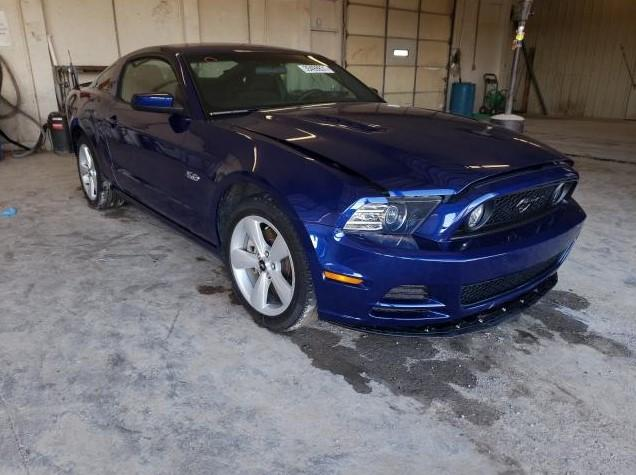Back-wheel: (77, 138, 124, 209)
Back-window: (97, 67, 111, 89)
Fender: (184, 119, 333, 227), (284, 168, 385, 226)
Front-bumper: (304, 200, 586, 334)
Front-door: (104, 53, 187, 224)
Front-wheel: (219, 193, 317, 332)
Front-window: (120, 57, 183, 105)
Grille: (416, 163, 578, 242)
Headlight: (343, 198, 440, 234)
Hood: (219, 101, 573, 195)
Mirror: (131, 92, 182, 113), (369, 87, 378, 93)
Quarter-panel: (66, 88, 117, 188)
Rocker-panel: (116, 190, 220, 256)
Roof: (132, 41, 307, 52)
Windshield: (185, 54, 382, 115)
